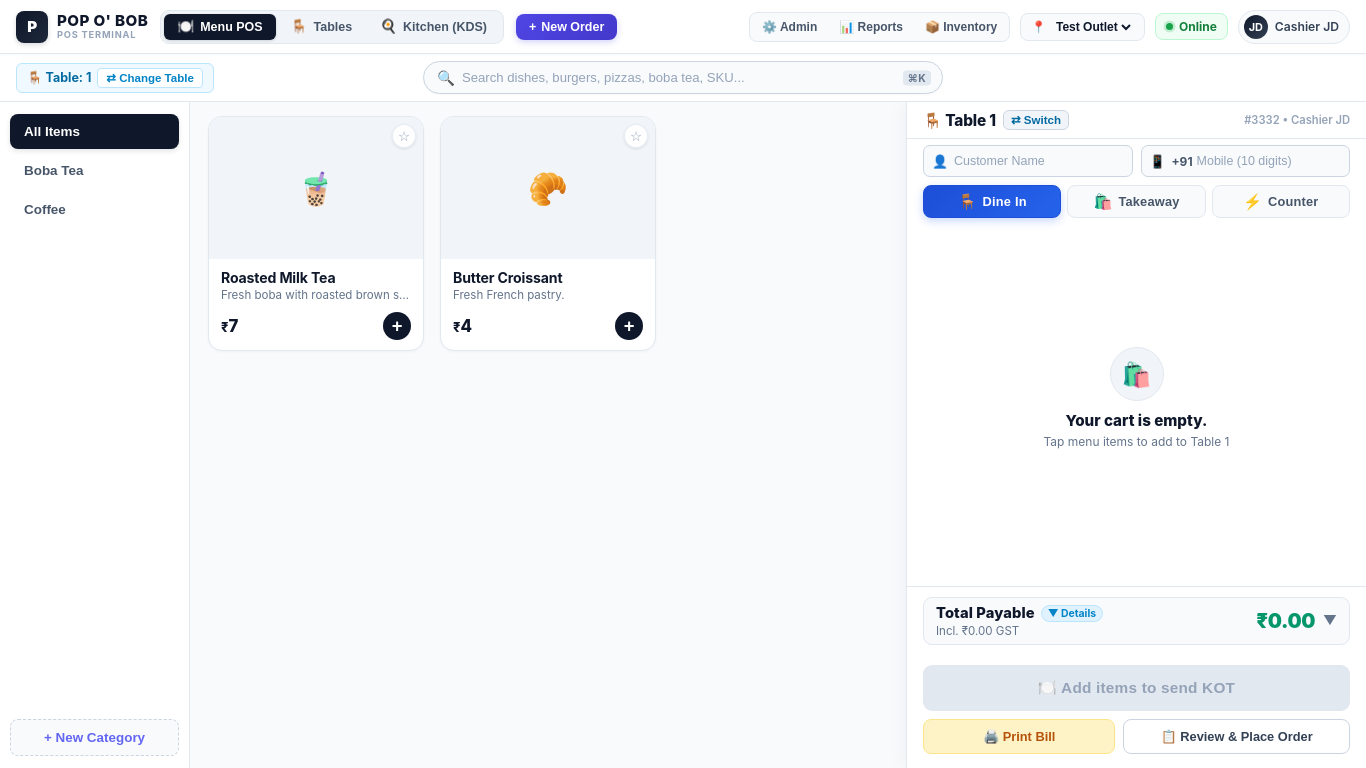
Test: Frontend–Backend Integration (Cashier POS) › handles order creation errors from backend
The width and height of the screenshot is (1366, 768).
Earlier steps of the test are not shown.
Expected: the heading "Butter Croissant" is shown, [453,269,562,286]
Click the button with aria-label "Select Butter Croissant". click: (548, 234)
box: [440,116,656,351]
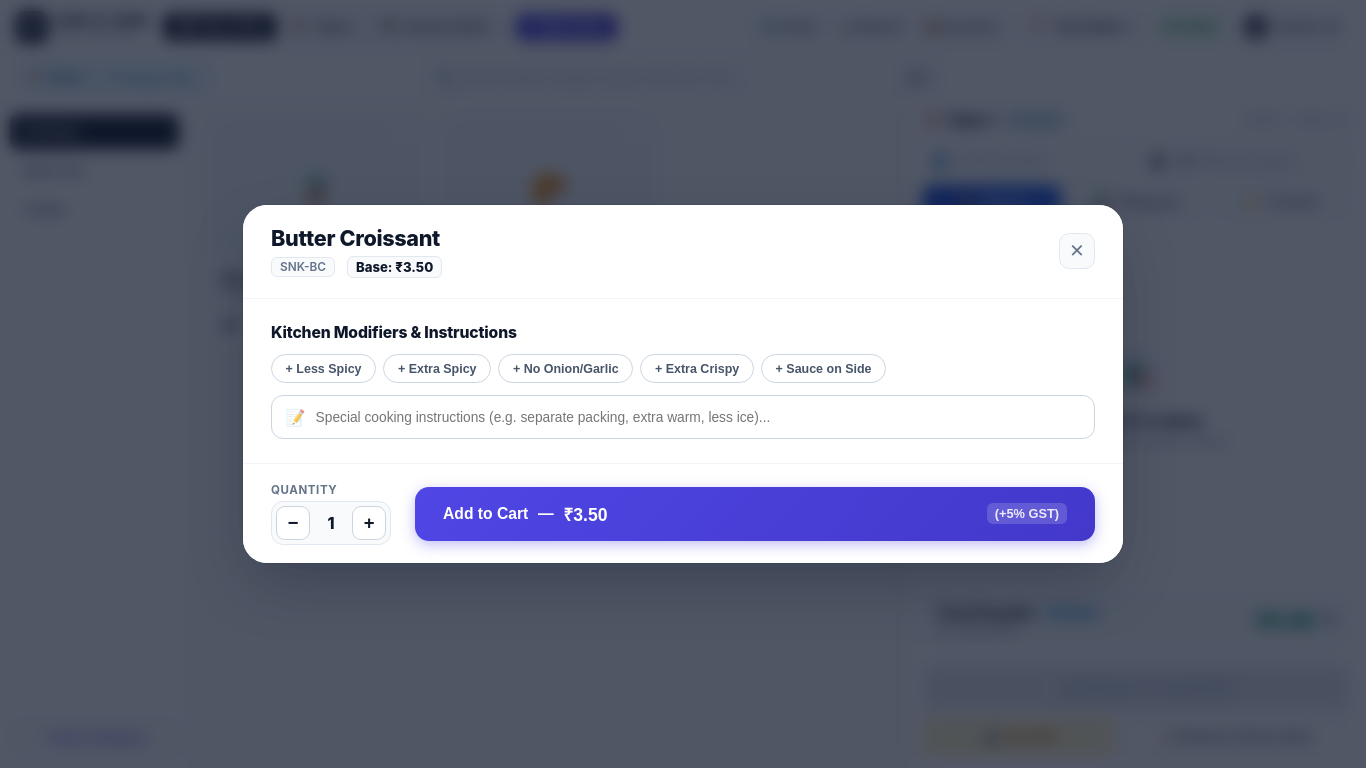
Click the button "Add to Cart — ₹3.50 (+5% GST)". click: (486, 513)
box: [415,487,1095,541]
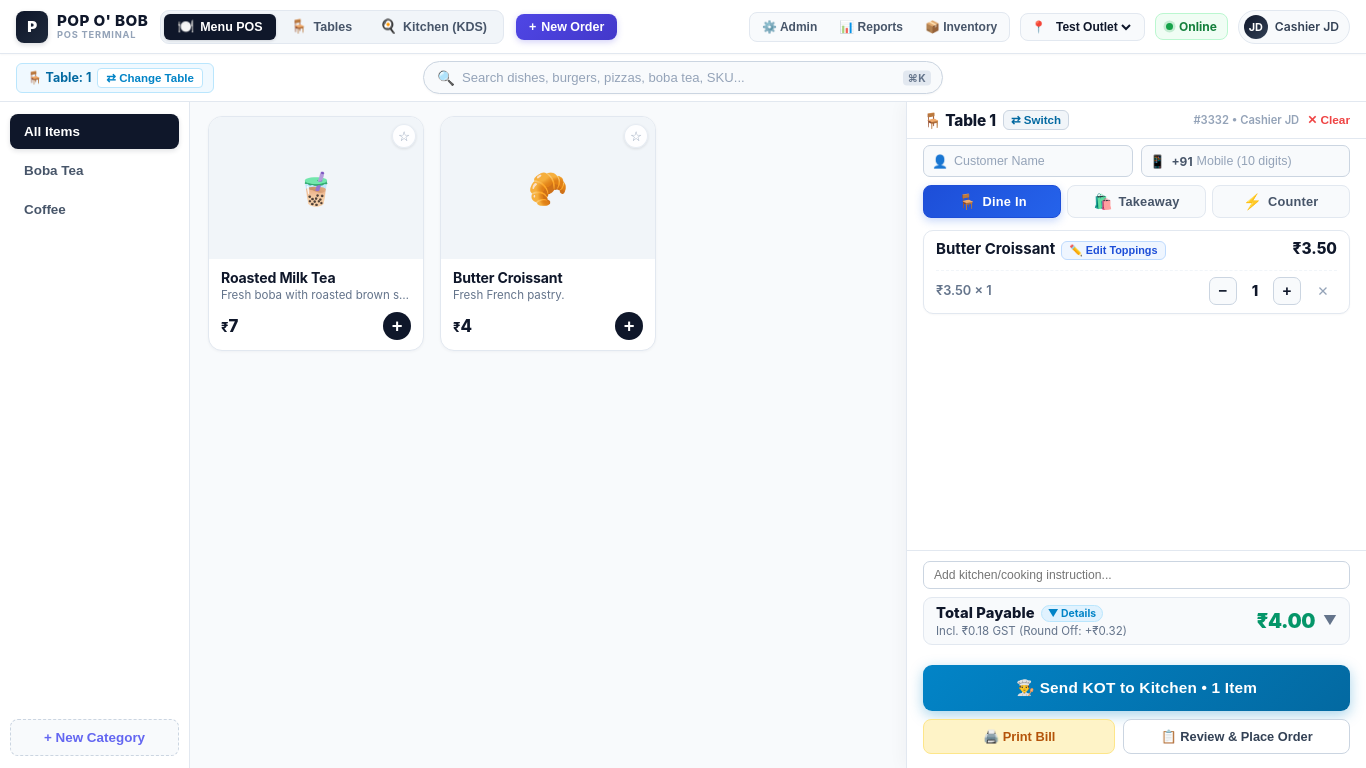
Click the button "📋 Review & Place Order". click: (1237, 736)
box: [1124,719,1350,754]
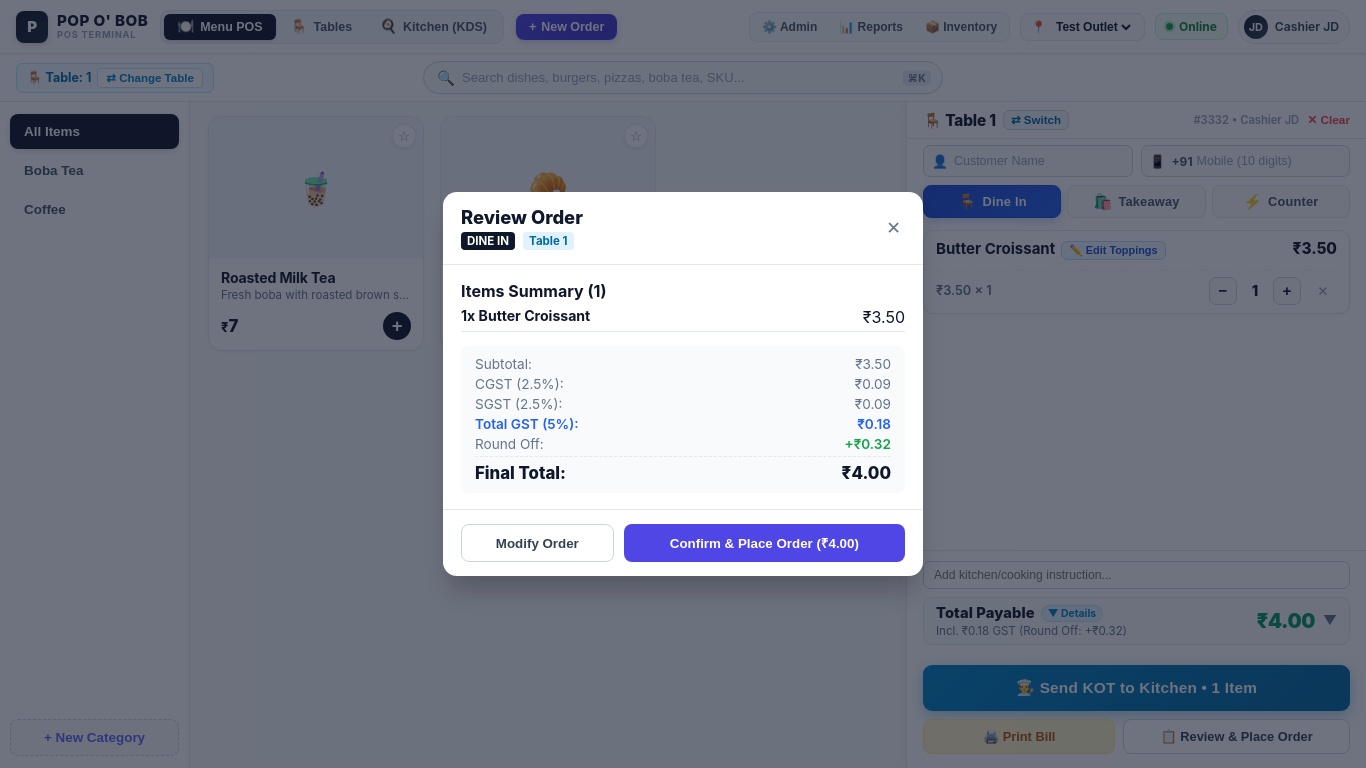
Click the button "Confirm & Place Order (₹4.00)". click: (764, 543)
box: [624,524,905,562]
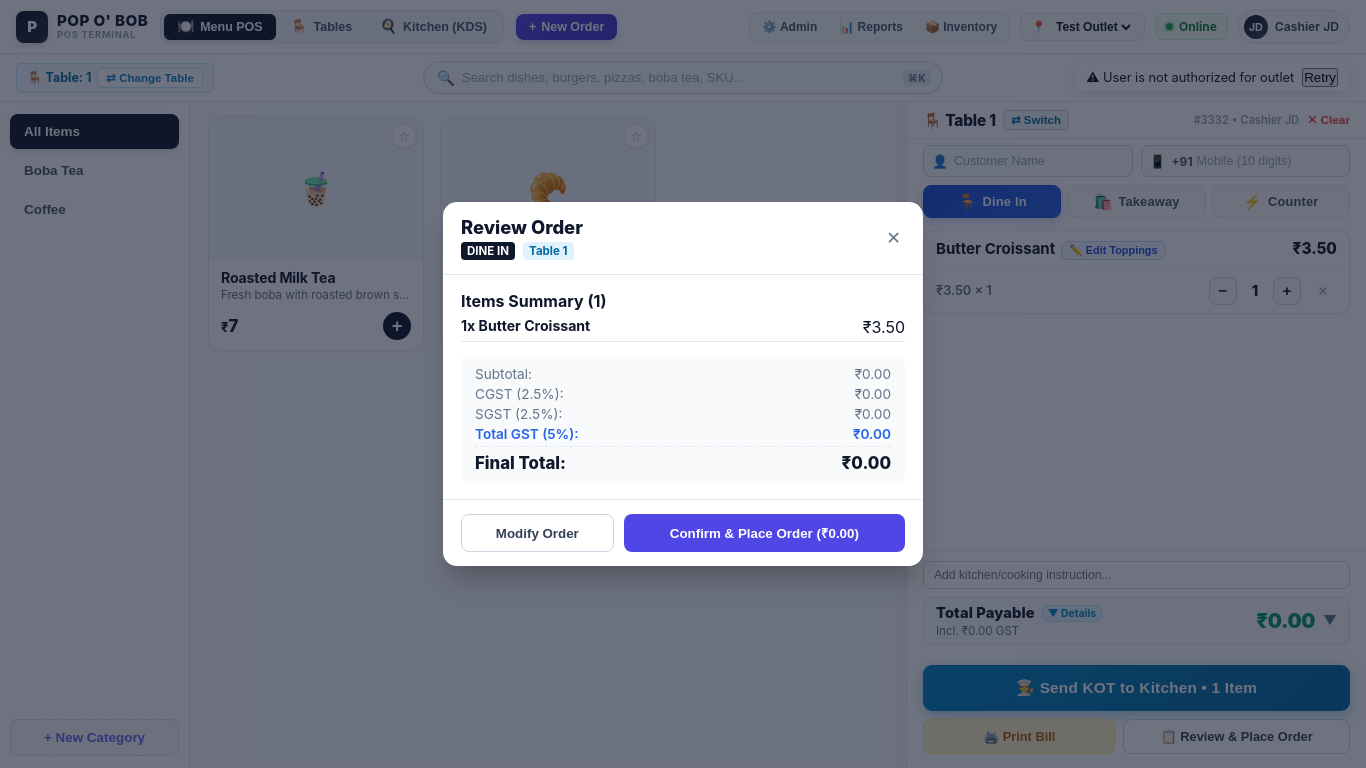
Expected: the message shows "User is not authorized for outlet", [1103,70,1294,85]
